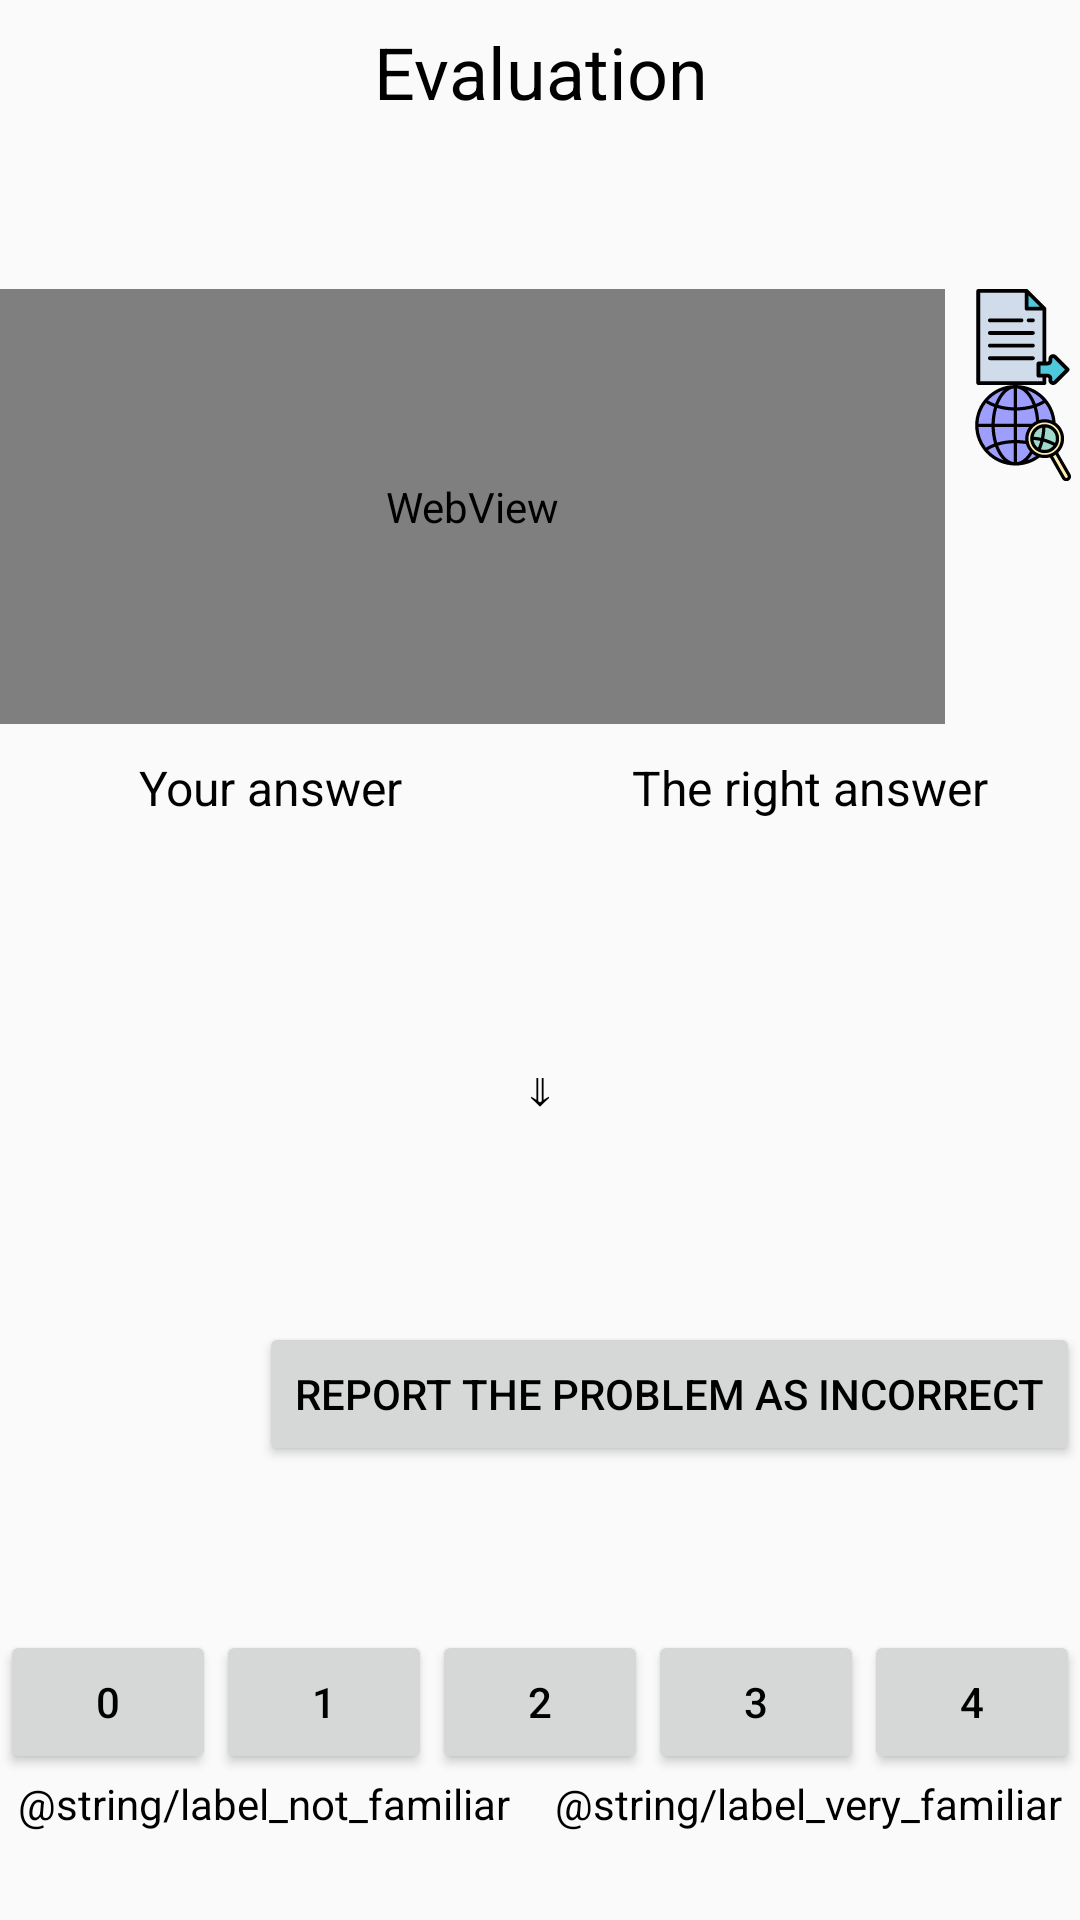

Named icons in this screenshot (1080px×1920px) and their bounding boxes, (x1, y1, x2, y2):
search: (975, 385, 1071, 481)
view article: (976, 289, 1070, 385)
